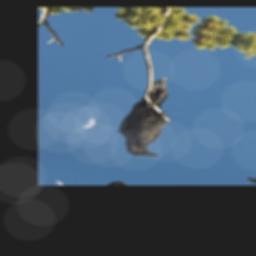Crow: (108, 70, 196, 161)
